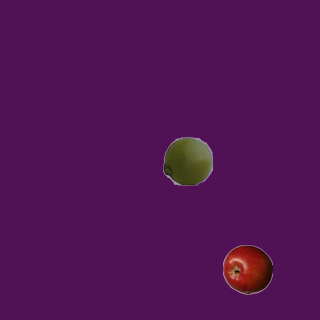Apple Braeburn: (222, 244, 272, 294)
Grape White 4: (162, 135, 212, 185)
